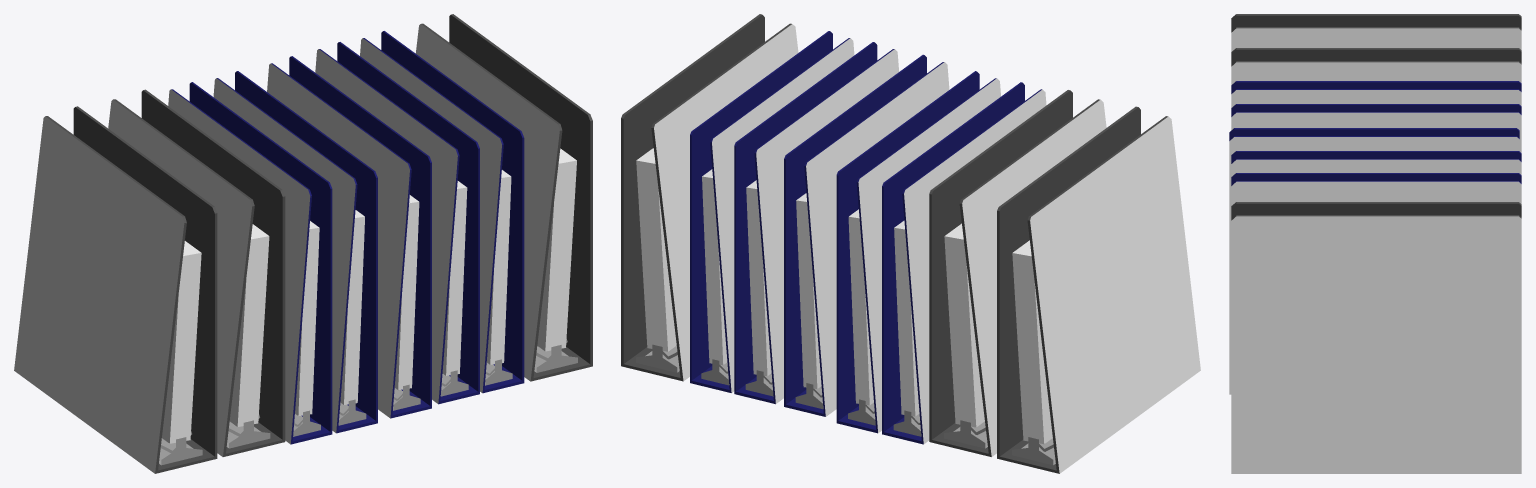
3 views of the same model, side by side, from view 1: azimuth 30°, elevation 25°; view 2: azimuth 150°, elevation 25°; view 3: azimuth 270°, elevation 25° (orthographic). The views are drawn at different scales.
Parts seen in each view (by area): view 1: nc code books; view 2: nc code books; view 3: nc code books.
Boxes of the visible parts, x1,y1,x2,y2 form: nc code books: (14, 14, 592, 473); nc code books: (621, 14, 1200, 473); nc code books: (1229, 14, 1521, 473).
Bounding box in the file's own units: 21.06 × 11.7 × 11.83.
